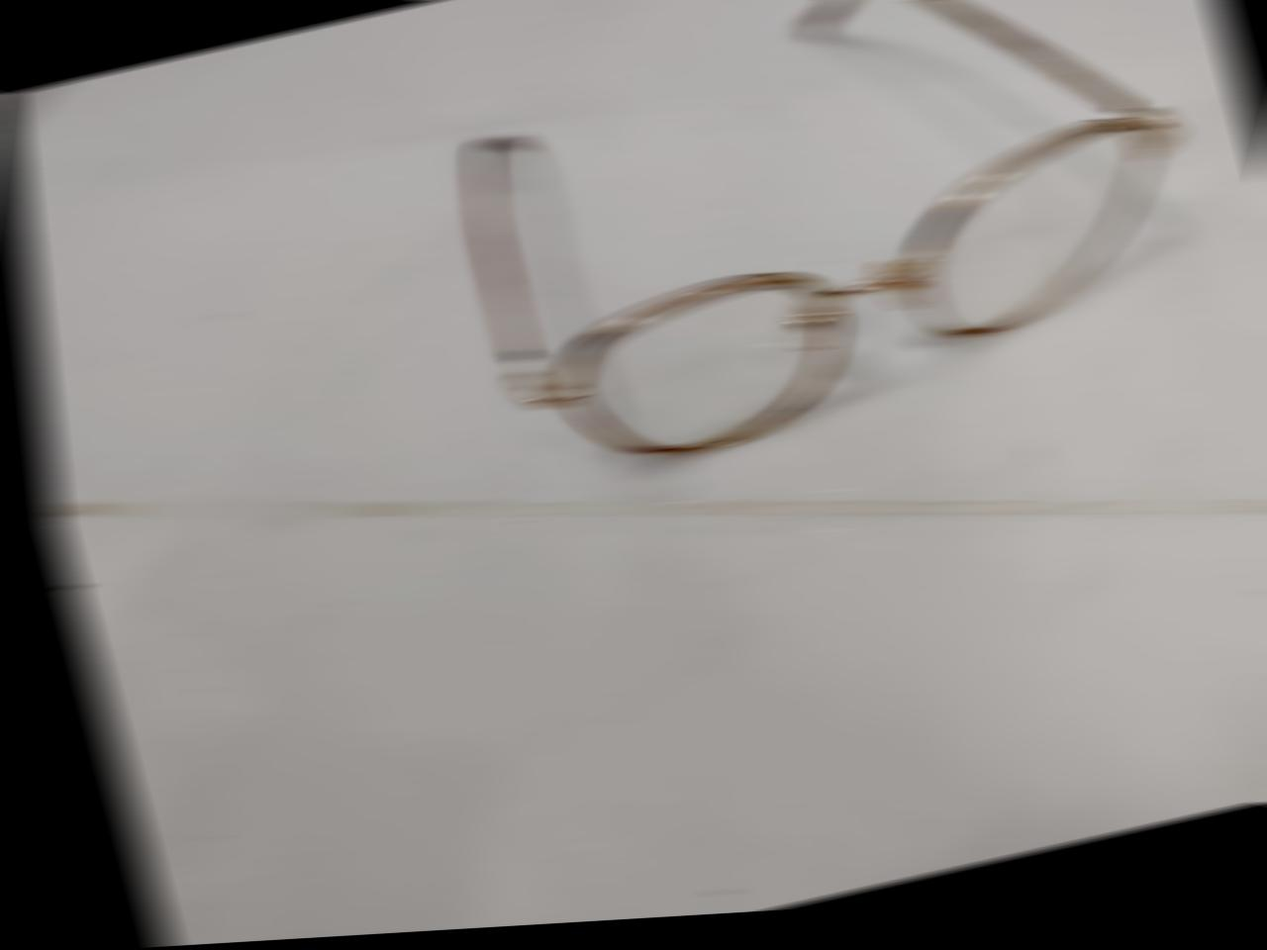glasses: (403, 0, 1247, 493)
